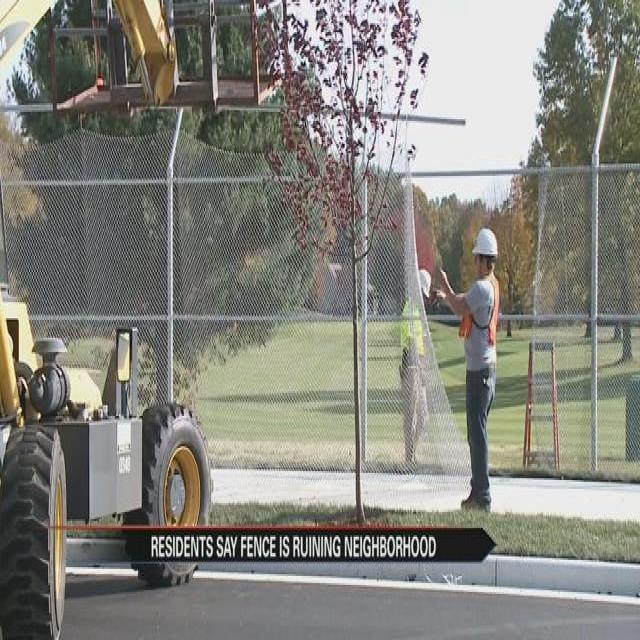fence line: (411, 162, 547, 483)
